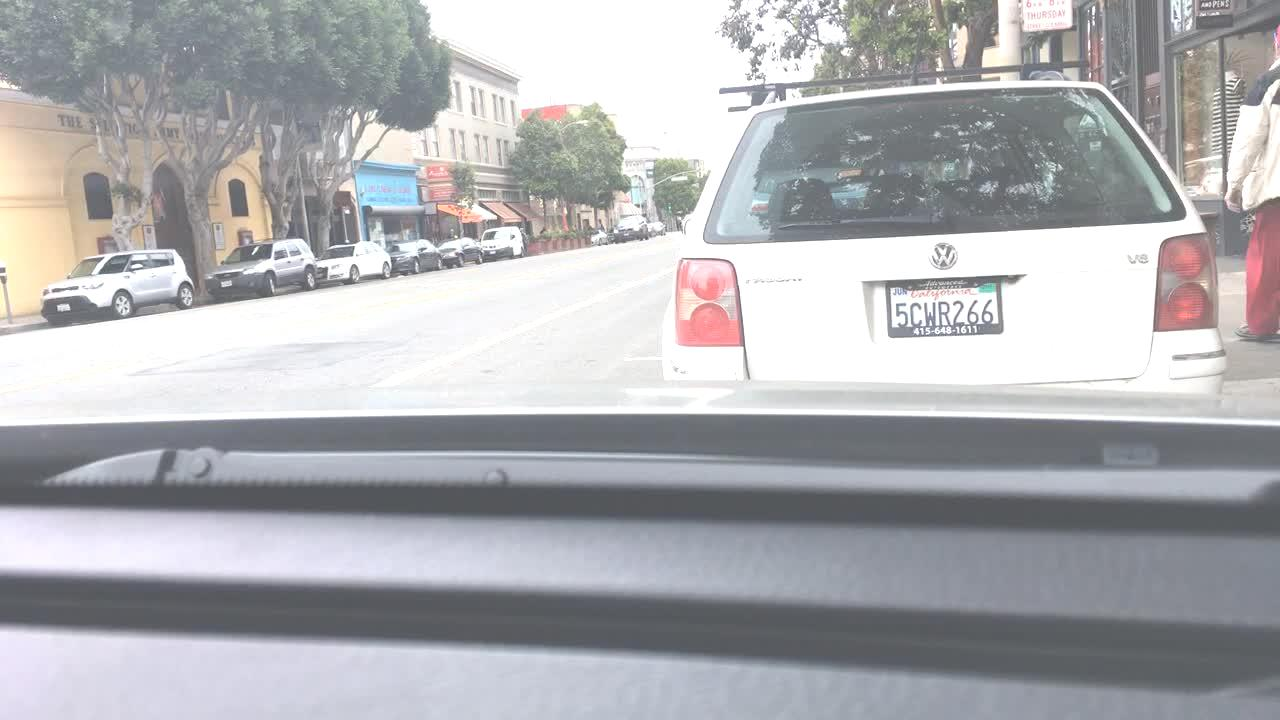Volkswagen: (925, 240, 964, 273)
